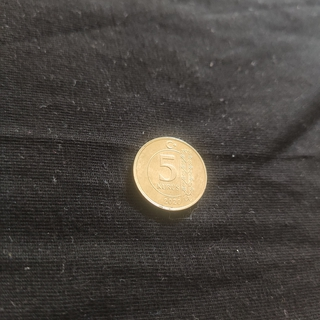5KURUS: (131, 134, 208, 212)
